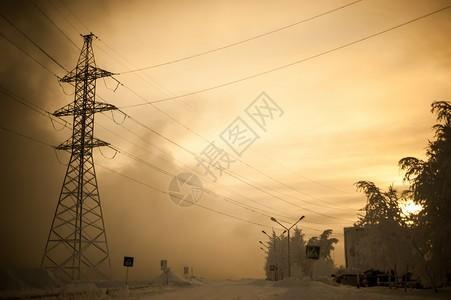power_tower: (34, 23, 124, 276)
